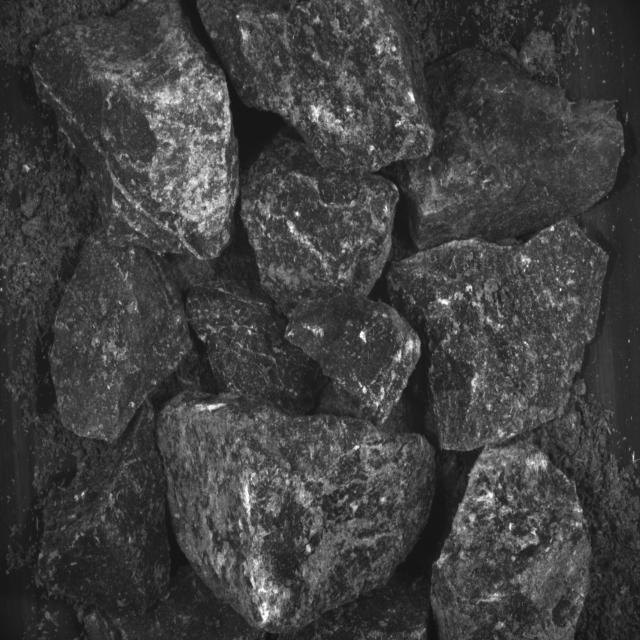Stones: (159, 395, 436, 634), (34, 3, 240, 260), (389, 221, 609, 452), (399, 50, 625, 251), (199, 1, 435, 172), (432, 444, 592, 640), (51, 237, 192, 442), (242, 137, 400, 314), (187, 283, 326, 414), (286, 294, 422, 425)
